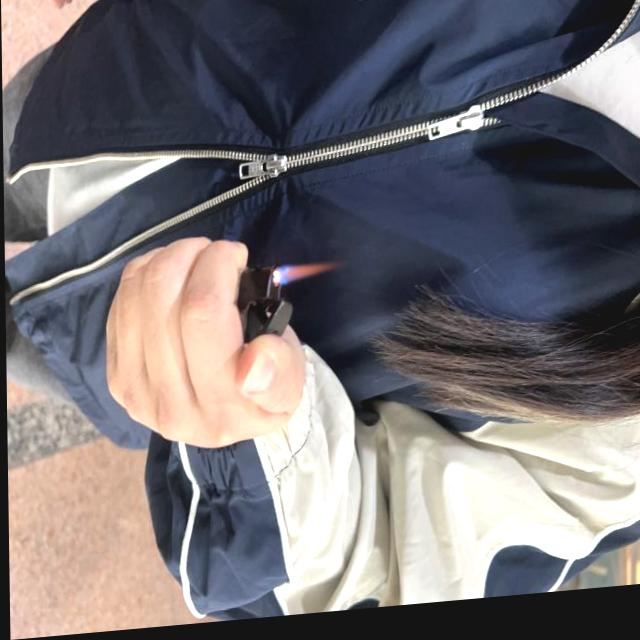Fire: (269, 267, 337, 292)
